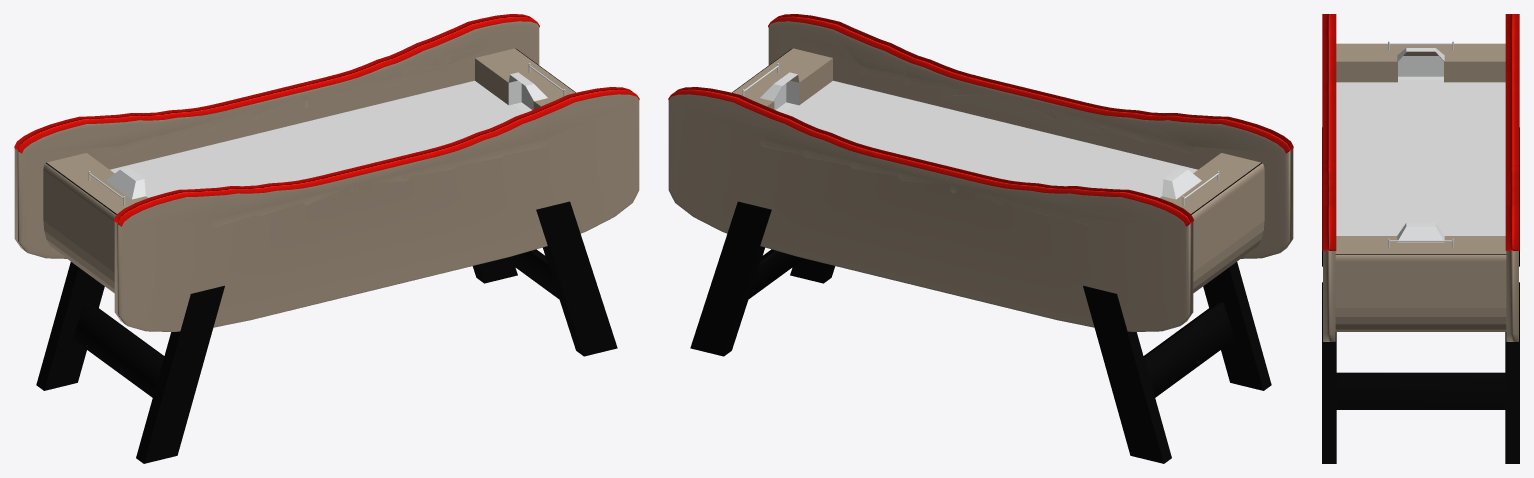
File: babyfoot_collide.fbx
The picture shows the model from 3 angles, left to right: view 1: azimuth 30°, elevation 25°; view 2: azimuth 150°, elevation 25°; view 3: azimuth 270°, elevation 25°; orthographic projection. The views are drawn at different scales.
Visible parts, largest first — view 1: Cube.008, Cube.010, Cube.012, Cube.009, Cube.014, Cube.013; view 2: Cube.008, Cube.010, Cube.012, Cube.009, Cube.014, Cube.013; view 3: Cube.010, Cube.009, Cube.014, Cube.013, Cube.012, Cube.008.
Boxes of the visible parts, x1,y1,x2,y2 form: Cube.008: (14, 21, 639, 331); Cube.010: (110, 80, 524, 197); Cube.012: (36, 201, 617, 463); Cube.009: (43, 48, 575, 293); Cube.014: (14, 14, 639, 226); Cube.013: (73, 249, 559, 397); Cube.008: (668, 21, 1293, 331); Cube.010: (783, 80, 1197, 197); Cube.012: (690, 201, 1271, 463); Cube.009: (732, 48, 1264, 293); Cube.014: (668, 14, 1293, 226); Cube.013: (748, 249, 1234, 397); Cube.010: (1336, 80, 1505, 235); Cube.009: (1335, 43, 1506, 331); Cube.014: (1322, 14, 1519, 250); Cube.013: (1336, 372, 1505, 409); Cube.012: (1322, 127, 1519, 463); Cube.008: (1323, 251, 1518, 341).
Bounding box in the file's own units: 96.85 × 46.13 × 34.87.
